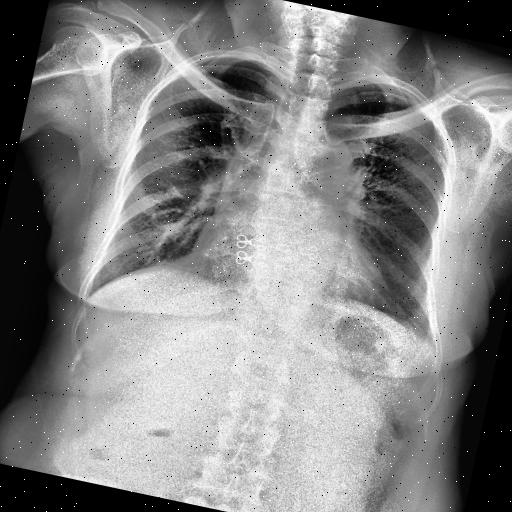0- Aortic enlargement: (220, 114, 357, 223), (285, 130, 356, 200)
3- Cardiomegaly: (184, 220, 394, 328), (191, 204, 387, 308)
